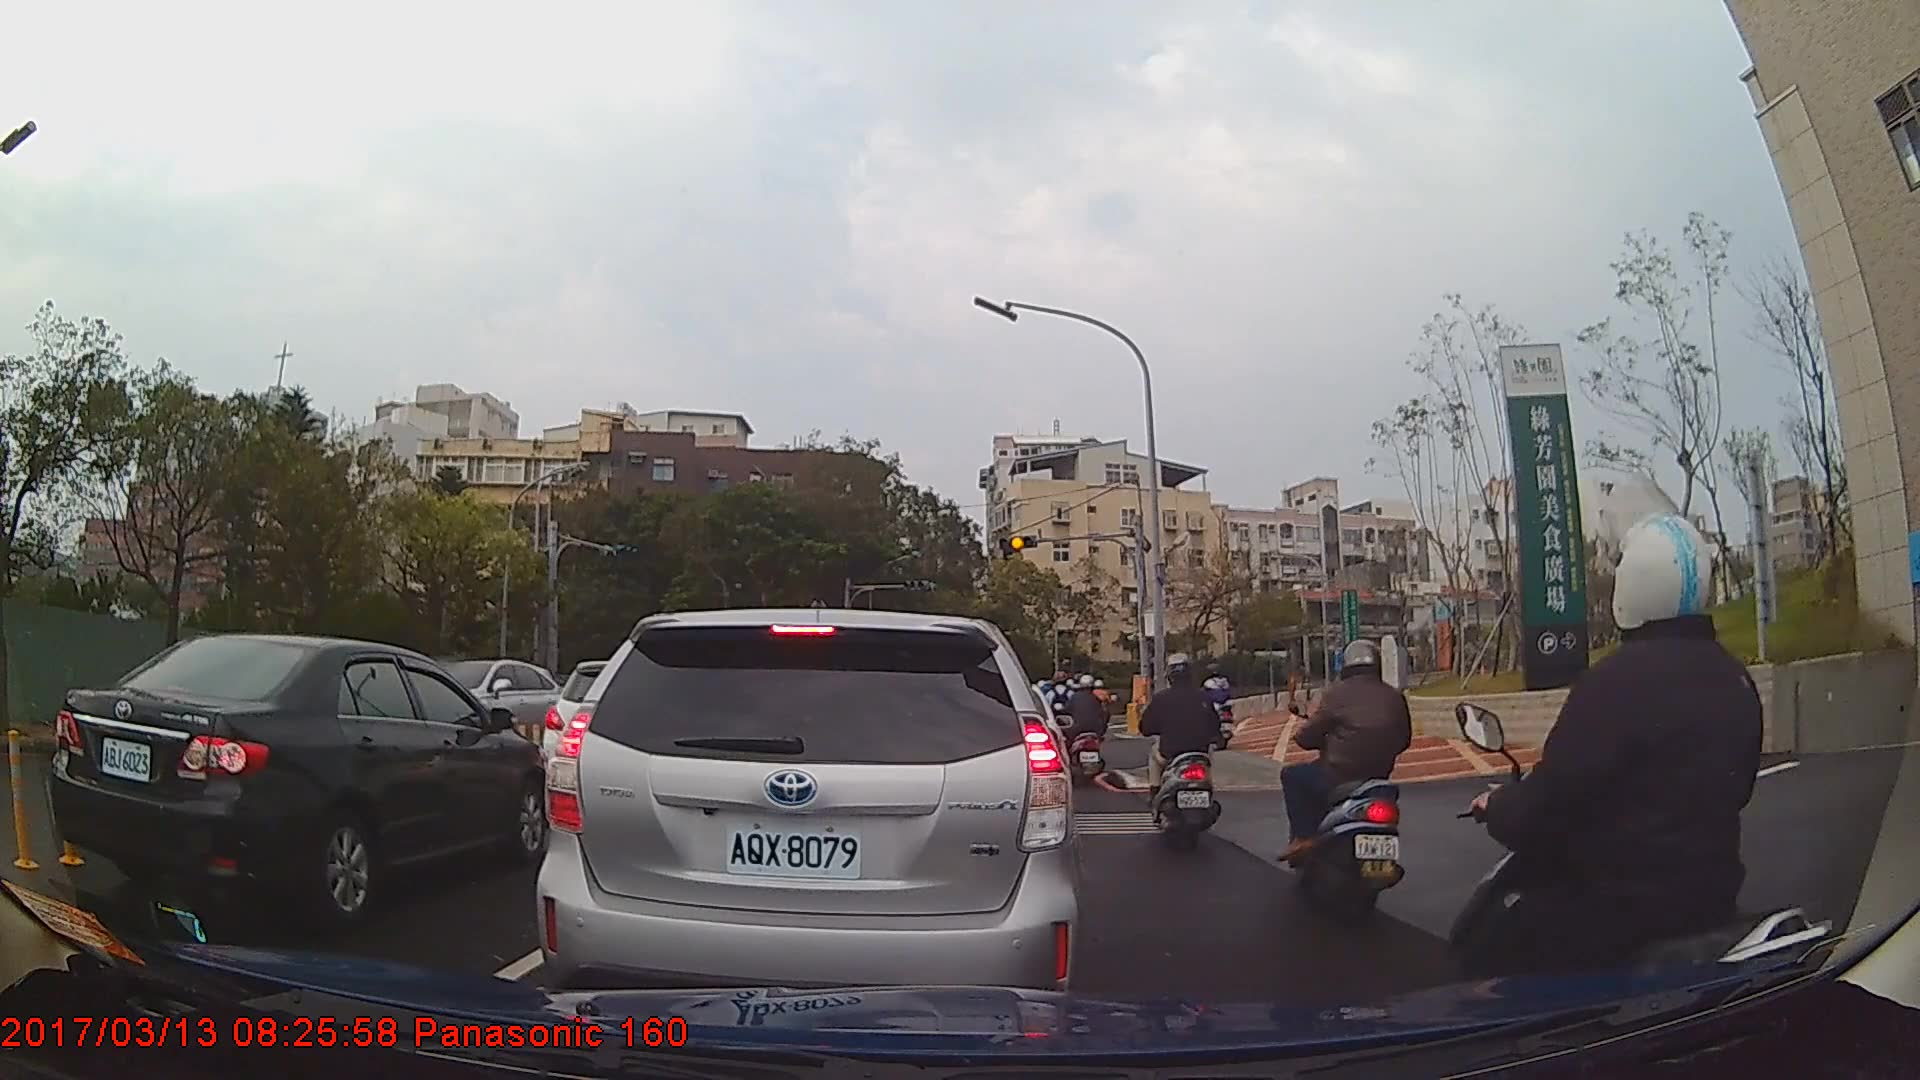rider: (1431, 511, 1839, 1080), (1278, 639, 1417, 924), (1139, 648, 1225, 856), (1068, 673, 1110, 790), (1200, 663, 1235, 754), (1084, 676, 1115, 742)
vehicle: (535, 606, 1079, 1023), (50, 631, 556, 922), (423, 658, 560, 752)
